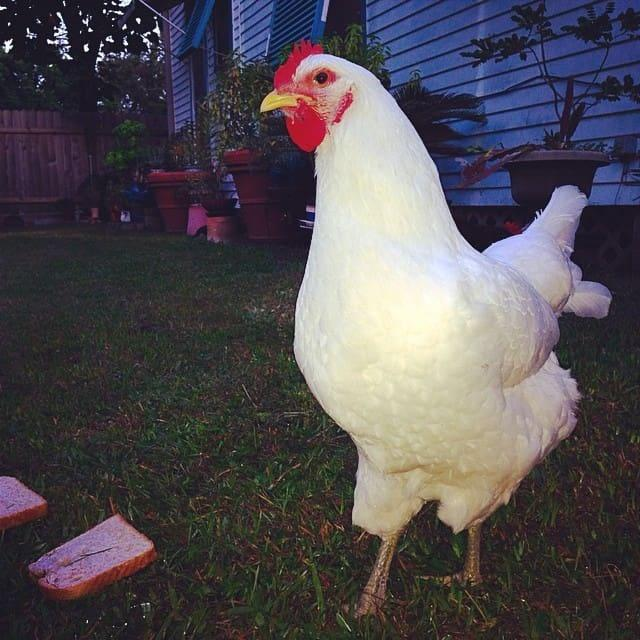Chicken: (259, 36, 612, 619)
